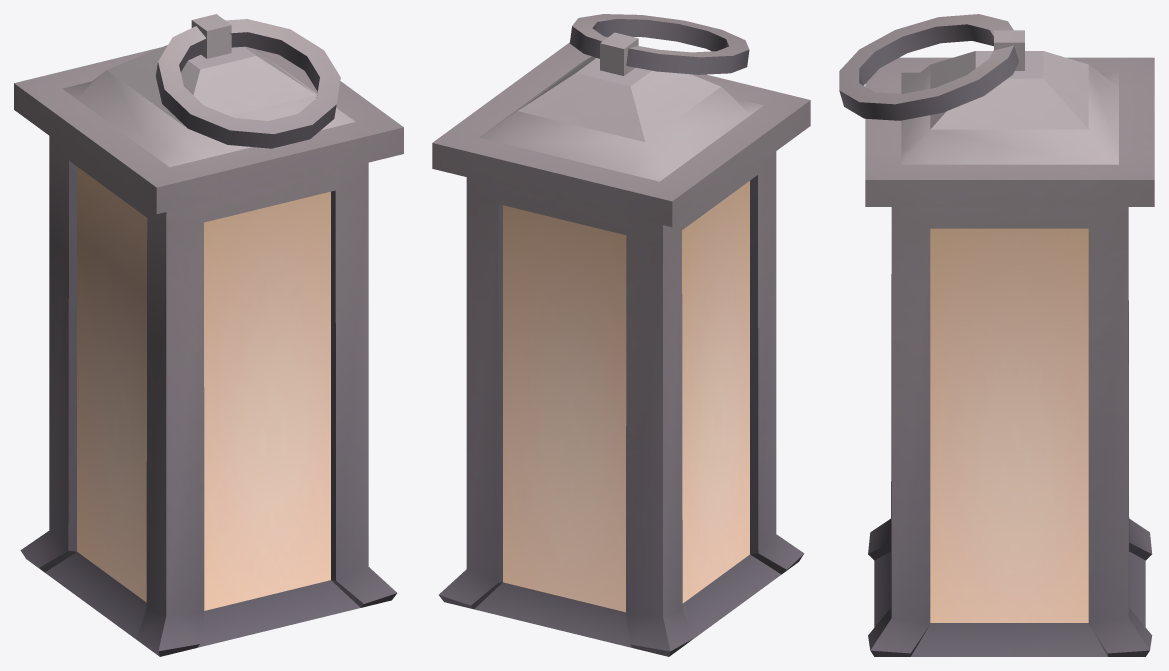
Rendered from M_lantern.FBX.
3 views of the same model, side by side, from view 1: azimuth 30°, elevation 25°; view 2: azimuth 150°, elevation 25°; view 3: azimuth 270°, elevation 25° (orthographic). The views are drawn at different scales.
Parts seen in each view (by area): view 1: Box010; view 2: Box010; view 3: Box010.
Boxes of the visible parts, bbox=[...] form: Box010: bbox=[14, 14, 403, 656]; Box010: bbox=[432, 14, 810, 656]; Box010: bbox=[839, 14, 1154, 656].
Size of the model in its own units: 15.68 by 17.11 by 33.75.
